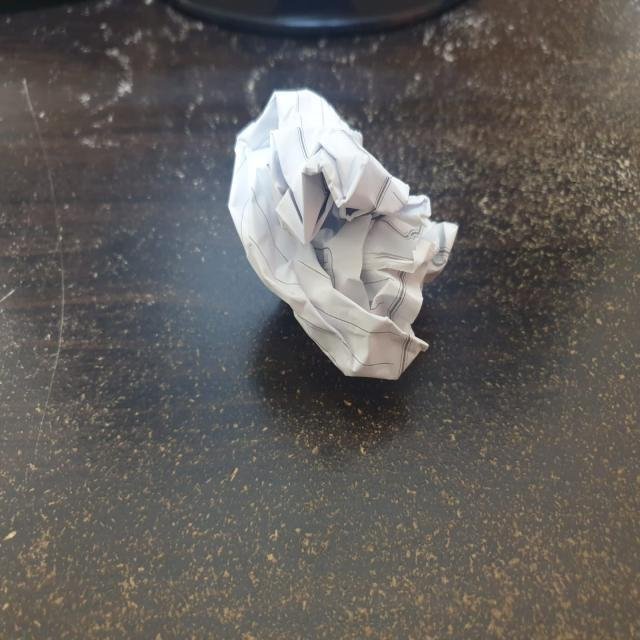Paper: (228, 85, 462, 387)
